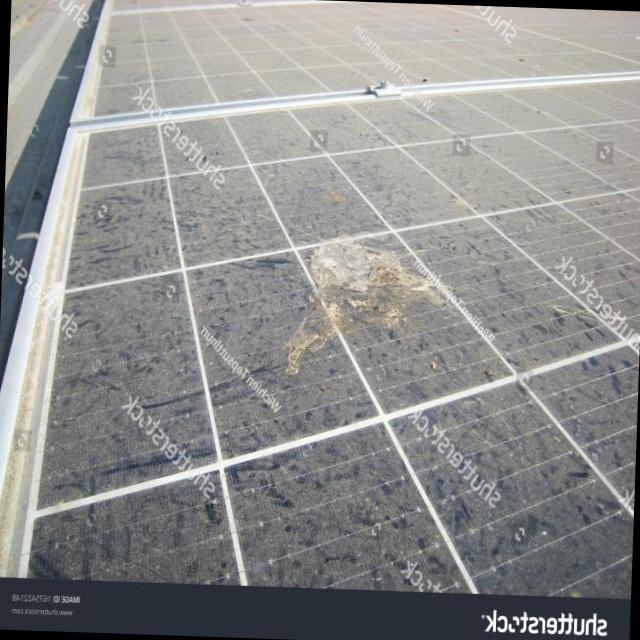faulty: (35, 0, 640, 594)
